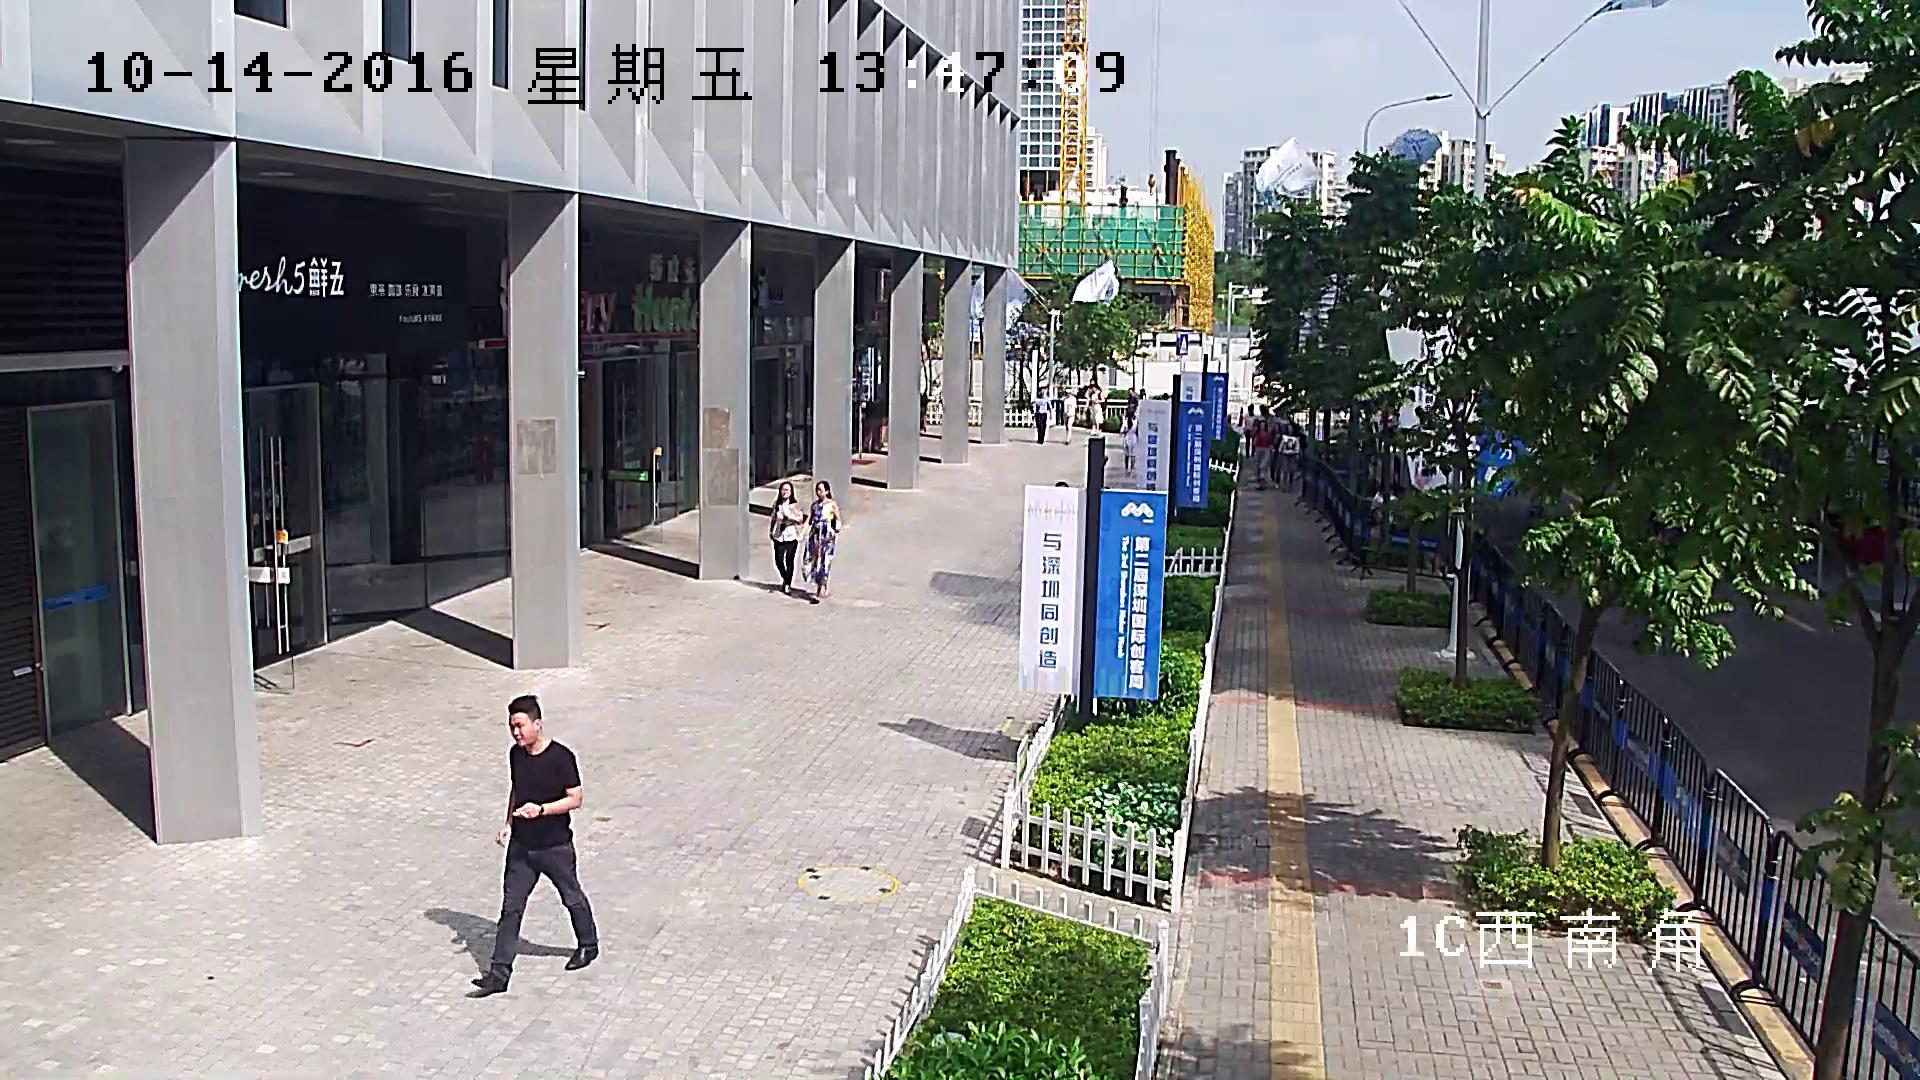person: (471, 694, 598, 992), (800, 479, 841, 601), (768, 482, 807, 594), (1275, 422, 1307, 492), (1255, 420, 1273, 490), (1033, 388, 1052, 444), (1120, 407, 1137, 471), (1061, 387, 1077, 444), (1268, 421, 1281, 490), (1090, 384, 1106, 434), (1244, 403, 1257, 461), (1128, 387, 1139, 406)
